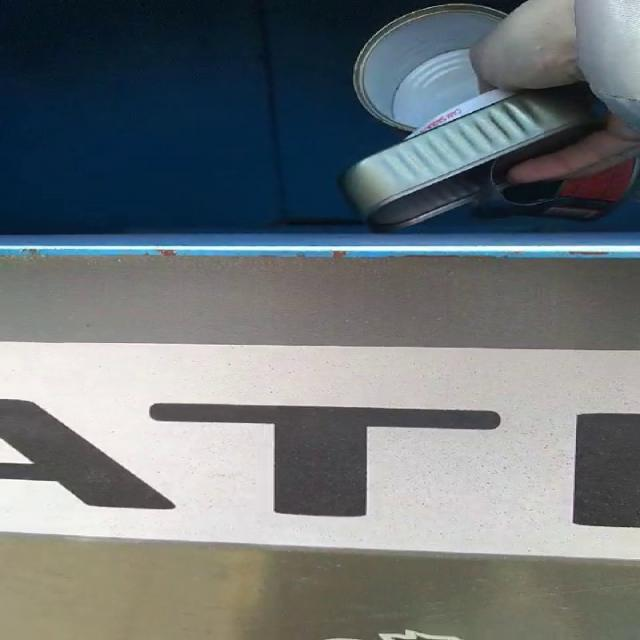bin: (1, 0, 523, 236), (3, 537, 640, 640), (3, 258, 639, 349)
metal: (341, 4, 637, 231)
